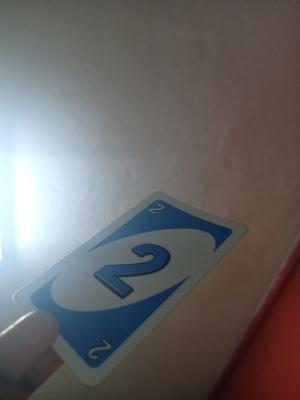blue: (67, 218, 190, 326)
num_2: (80, 334, 117, 364), (147, 201, 167, 217)
